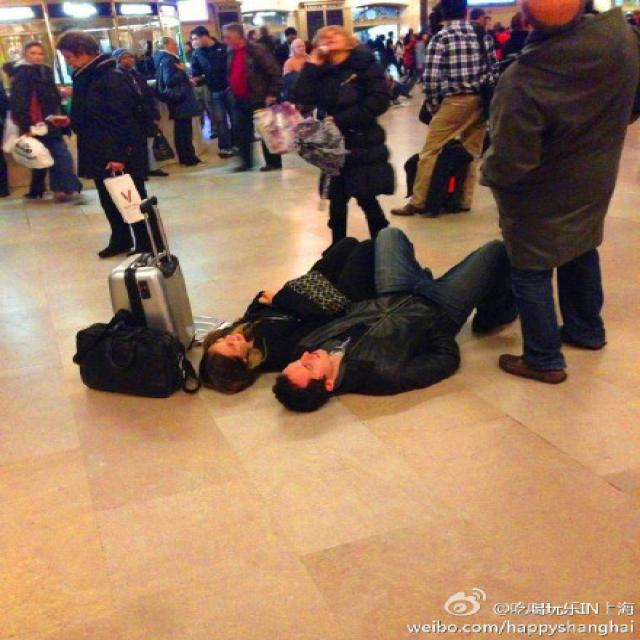10-: (0, 1, 633, 393)
down: (269, 231, 519, 416), (192, 235, 371, 399)
